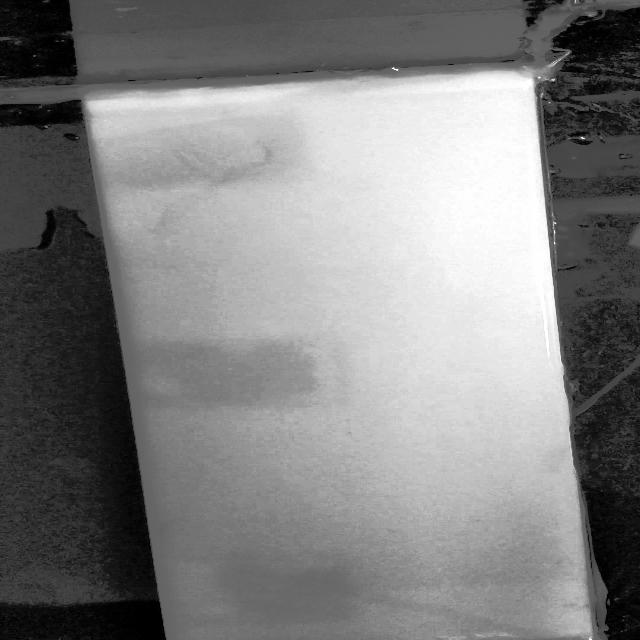shrimp: (153, 521, 179, 540)
